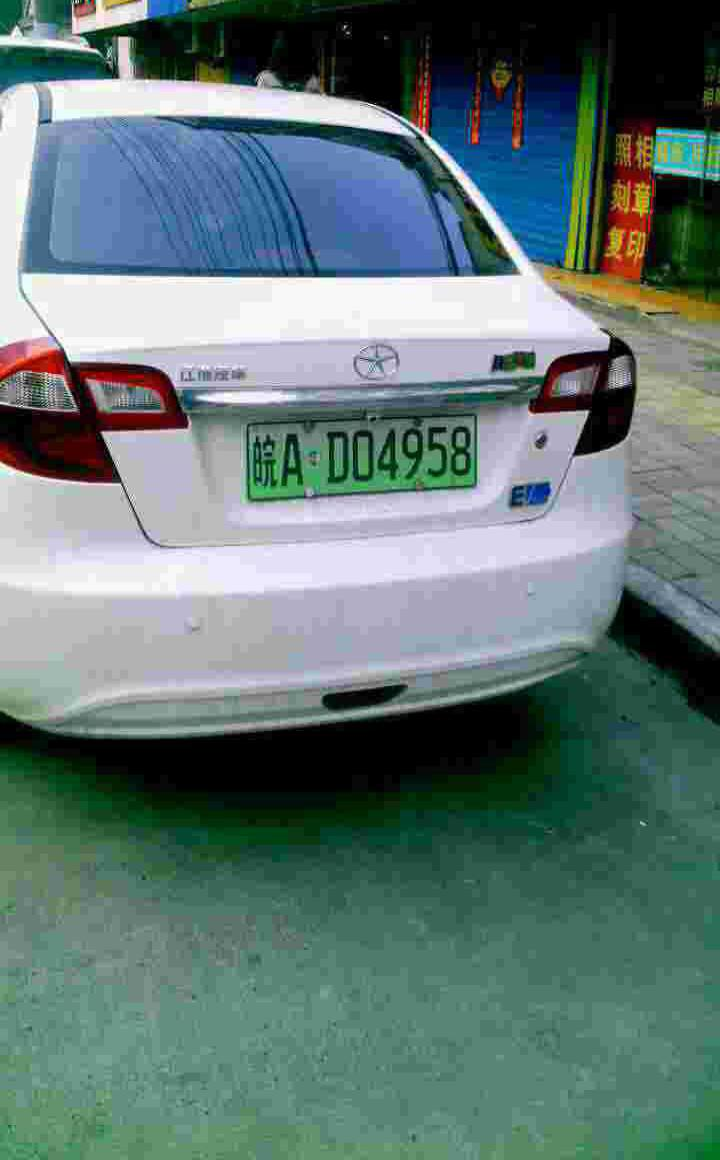car_id: (246, 412, 477, 497)
